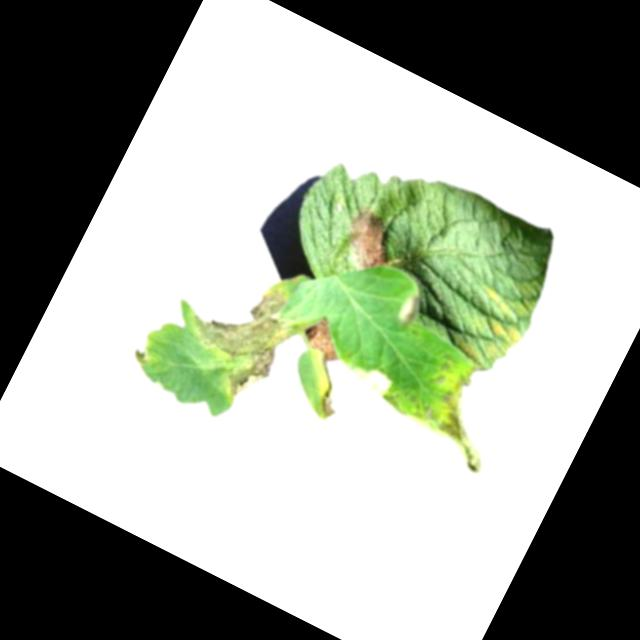Late_blight: (170, 261, 306, 407), (418, 358, 524, 475), (333, 203, 405, 278), (297, 309, 354, 367), (342, 354, 397, 401), (312, 375, 349, 421), (394, 289, 426, 328), (127, 339, 157, 369)
